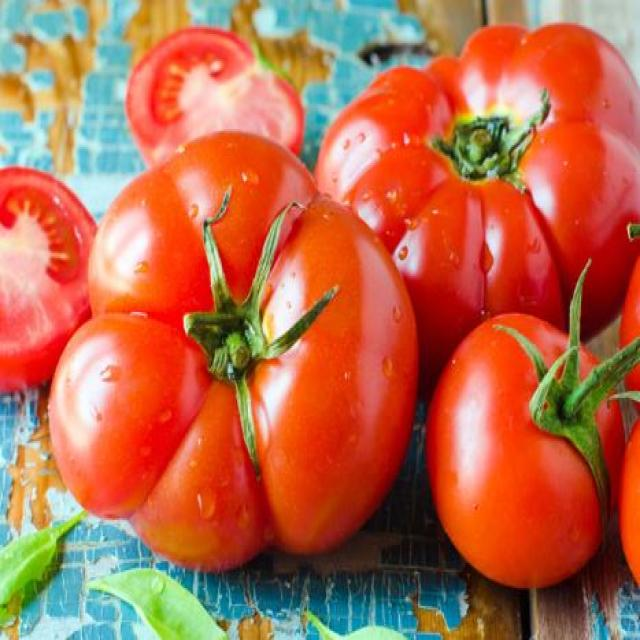Healthy: (82, 151, 394, 551), (336, 19, 640, 307), (416, 285, 620, 596)
